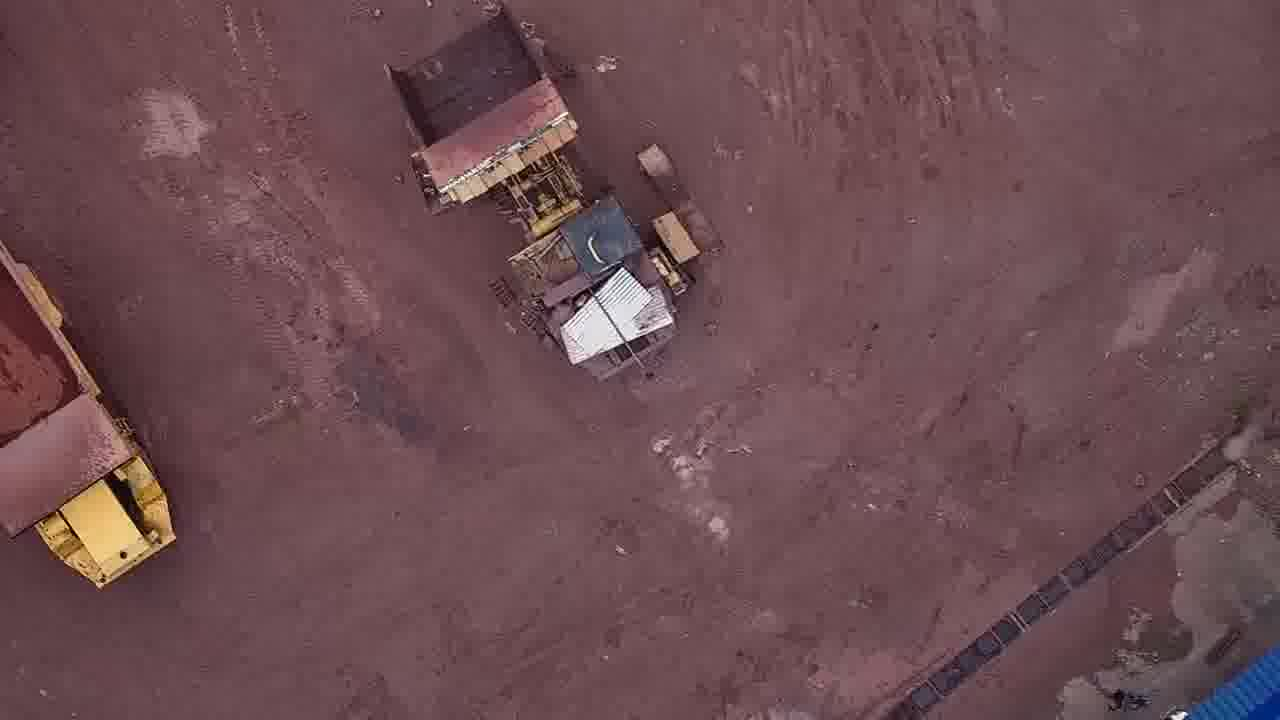heavy_motor_vehicle: (381, 8, 726, 388)
